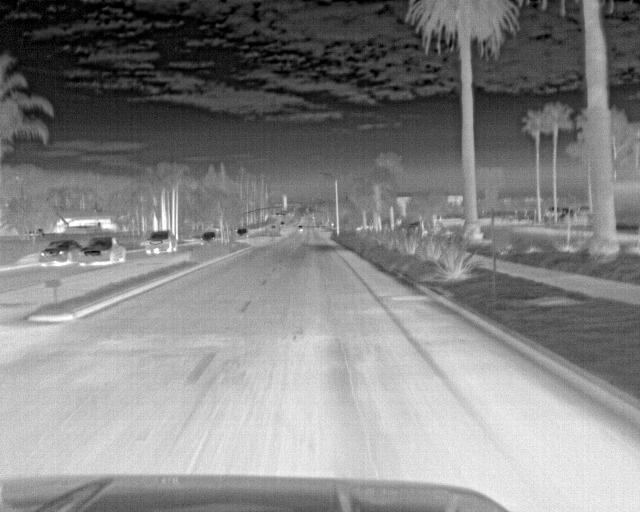car: (78, 236, 125, 267), (37, 238, 81, 264), (143, 228, 179, 254), (202, 229, 220, 245), (236, 227, 251, 240)
